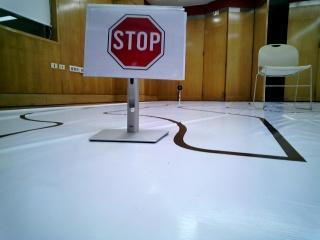stop: (92, 7, 183, 75)
